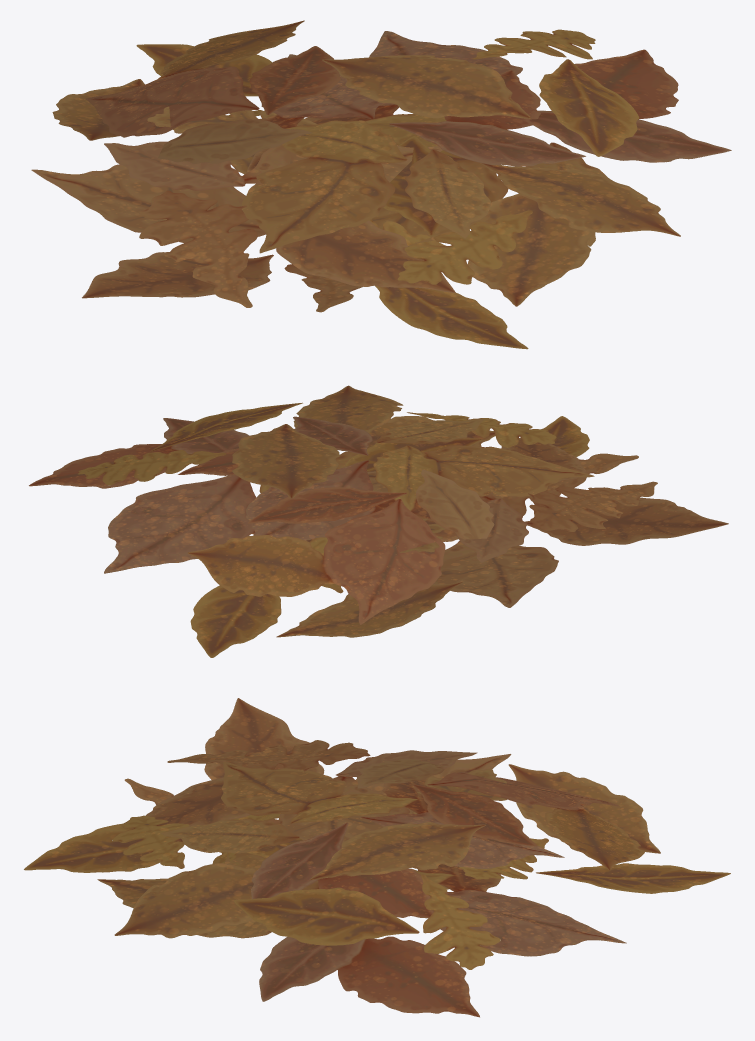
File: MSH_fwOF_Leaf_Pile_02.fbx
3 views of the same model, one above another, from view 1: azimuth 30°, elevation 25°; view 2: azimuth 150°, elevation 25°; view 3: azimuth 270°, elevation 25° (orthographic). The views are drawn at different scales.
Visible parts, largest first — view 1: MSH_fwOF_Leaf_Pile_02; view 2: MSH_fwOF_Leaf_Pile_02; view 3: MSH_fwOF_Leaf_Pile_02.
Part boxes in pixels (bbox=[...]): MSH_fwOF_Leaf_Pile_02: bbox=[31, 20, 731, 349]; MSH_fwOF_Leaf_Pile_02: bbox=[29, 385, 728, 657]; MSH_fwOF_Leaf_Pile_02: bbox=[24, 698, 730, 1017].
Bounding box in the file's own units: 0.58 × 0.063 × 0.5696.
